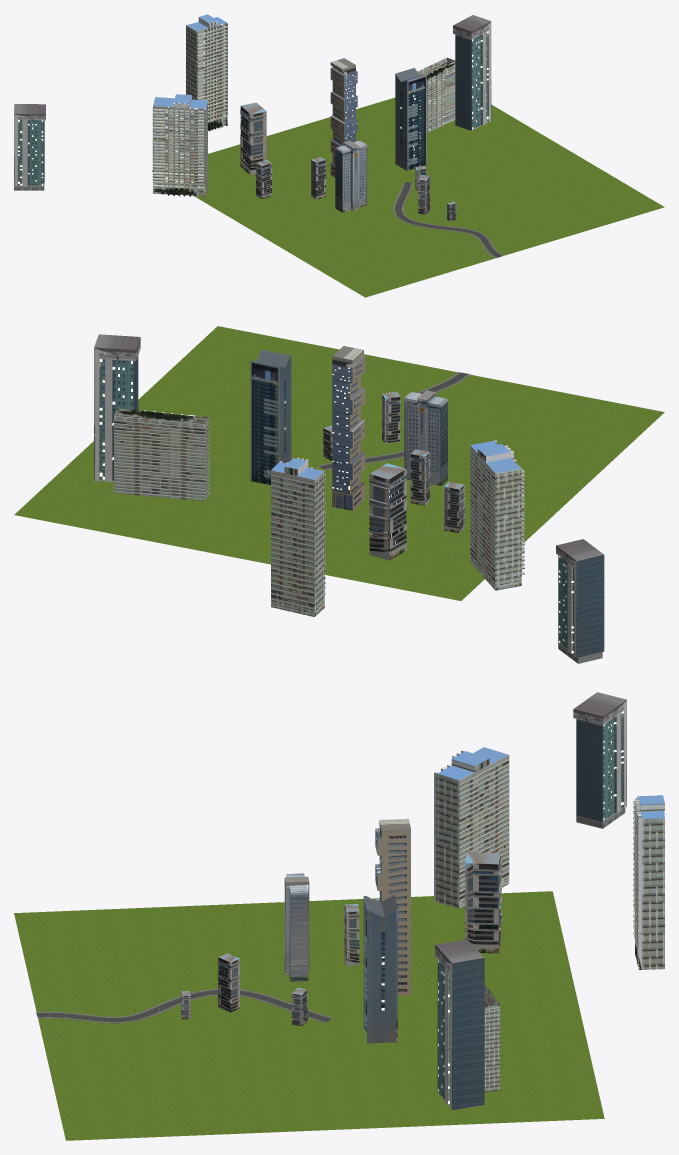
File: skyline_far.v4.glb
The picture shows the model from 3 angles, top to bottom: view 1: azimuth 30°, elevation 25°; view 2: azimuth 150°, elevation 25°; view 3: azimuth 270°, elevation 25°; orthographic projection. The views are drawn at different scales.
Visible parts, largest first — view 1: windowpanel.001, windowpanel.003, windowpanel.002, windowpanel; view 2: windowpanel.001, windowpanel.003, windowpanel.002, windowpanel; view 3: windowpanel.001, windowpanel.003, windowpanel.002.
Boxes of the visible parts, x1=… form: windowpanel.001: x1=152, y1=97, x2=664, y2=297; windowpanel.003: x1=14, y1=14, x2=491, y2=221; windowpanel.002: x1=393, y1=182, x2=503, y2=258; windowpanel: x1=18, y1=31, x2=488, y2=203; windowpanel.001: x1=14, y1=326, x2=664, y2=600; windowpanel.003: x1=94, y1=334, x2=604, y2=663; windowpanel.002: x1=319, y1=372, x2=469, y2=470; windowpanel: x1=99, y1=359, x2=573, y2=653; windowpanel.001: x1=14, y1=891, x2=604, y2=1140; windowpanel.003: x1=181, y1=692, x2=664, y2=1110; windowpanel.002: x1=36, y1=989, x2=332, y2=1023.
Size of the model in its own units: 1086 by 268 by 886.
Materials: 22 (15 with a texture image).
